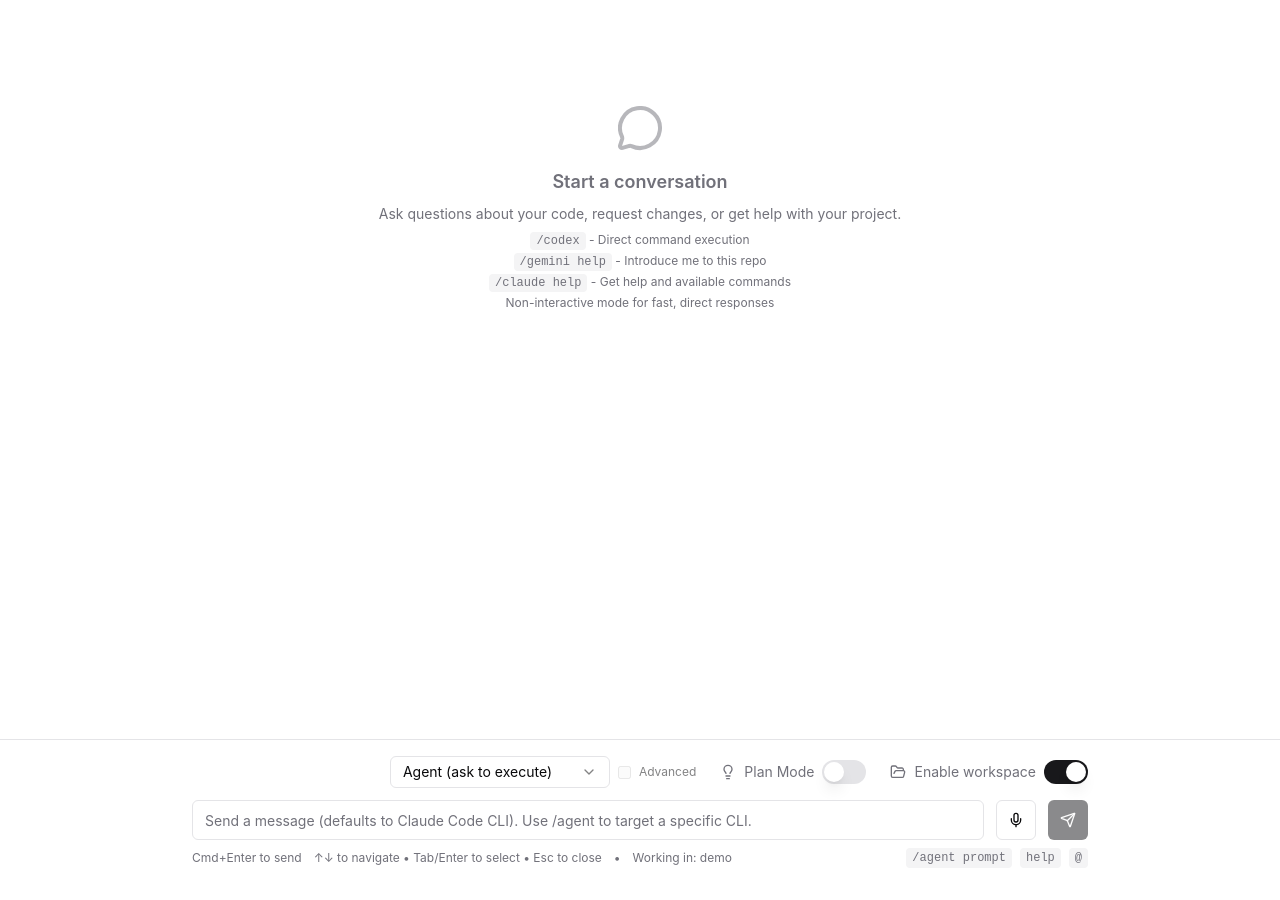
it: ChatInterface streaming › executes /test command and applies stream updates
// Type a command and send
Replace the text in the field with "/test hello" at (588, 820), box left=192, top=800, right=984, bottom=840
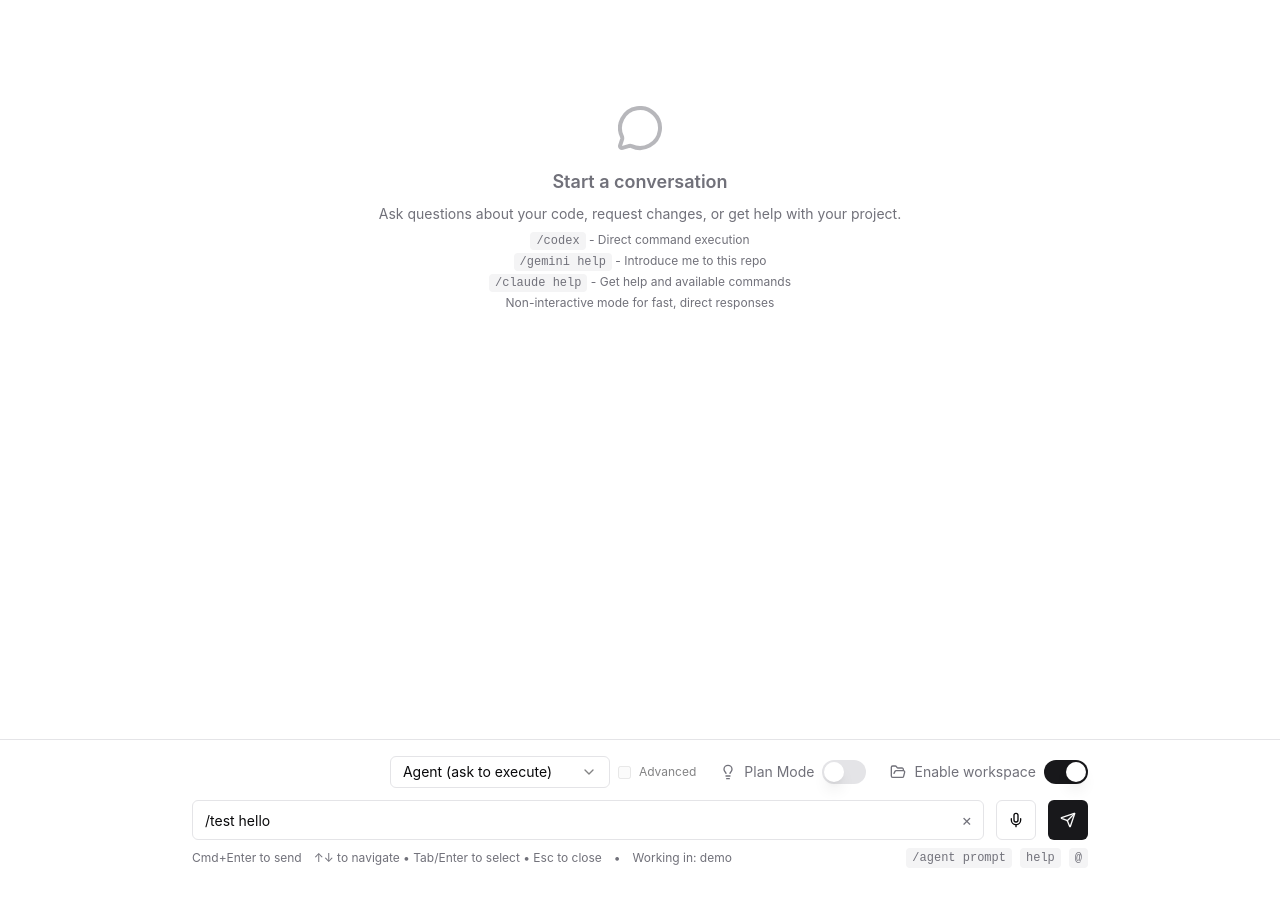
Press Enter in the field, box left=192, top=800, right=984, bottom=840
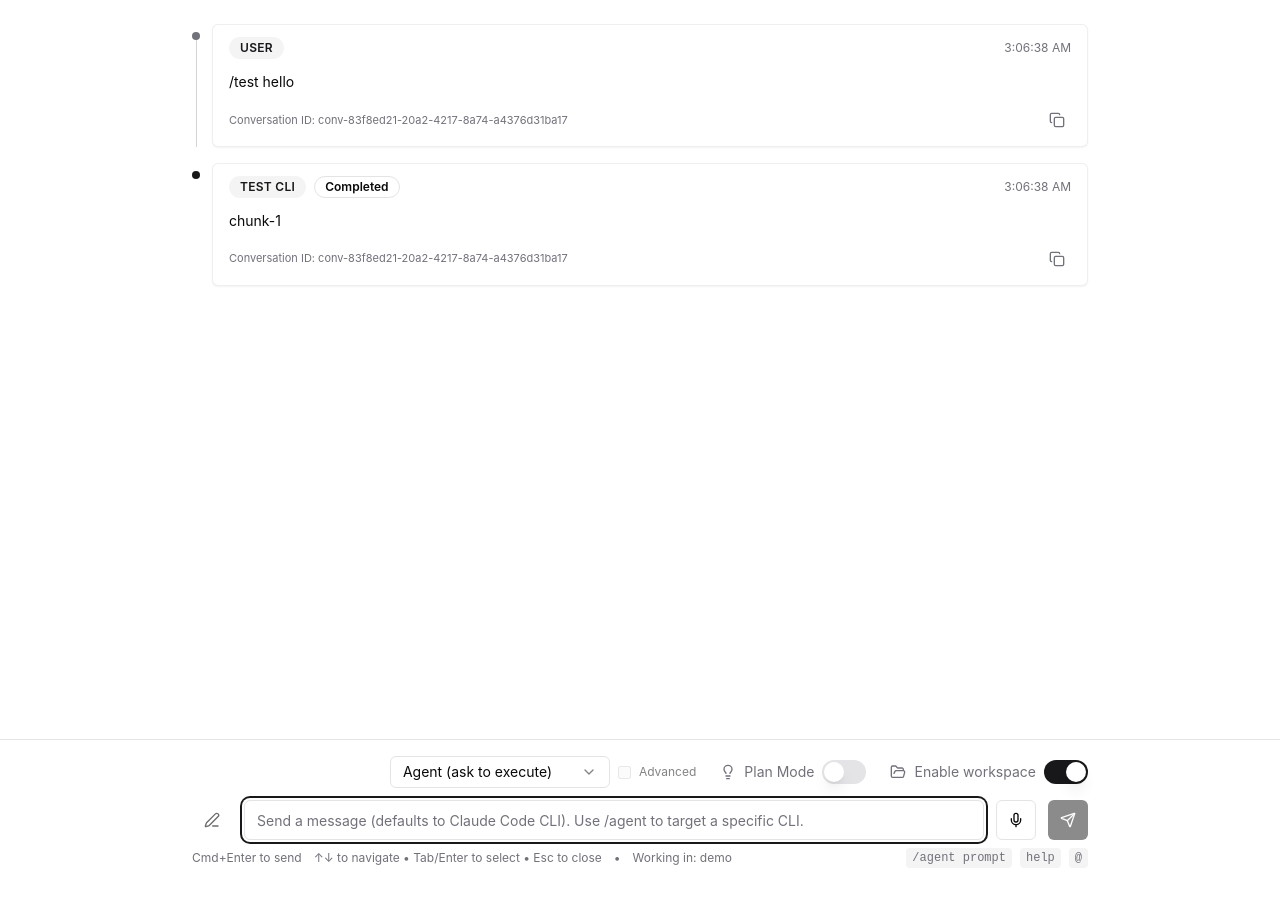
Check: the text "chunk-1" is shown, box left=229, top=212, right=281, bottom=229
